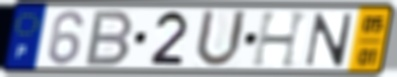2: (149, 10, 190, 67)
6: (46, 8, 86, 68)
B: (82, 8, 137, 68)
H: (249, 10, 312, 69)
N: (302, 11, 356, 68)
U: (192, 7, 249, 70)
